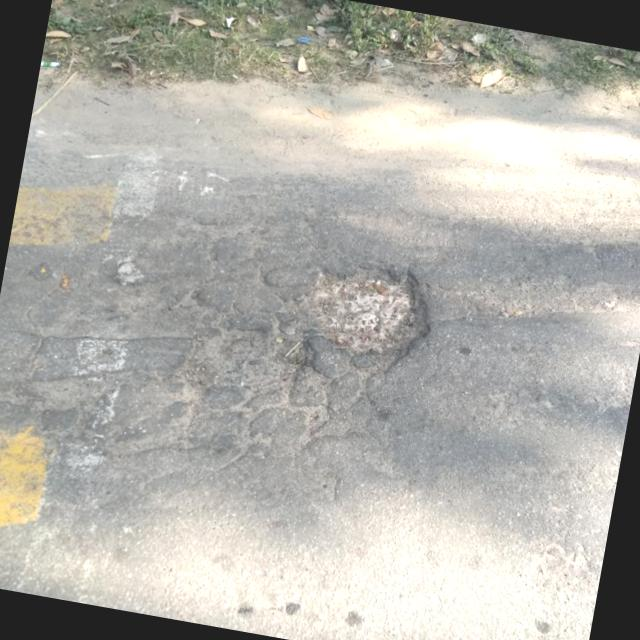Lubang: (181, 321, 305, 402), (305, 267, 419, 354)
